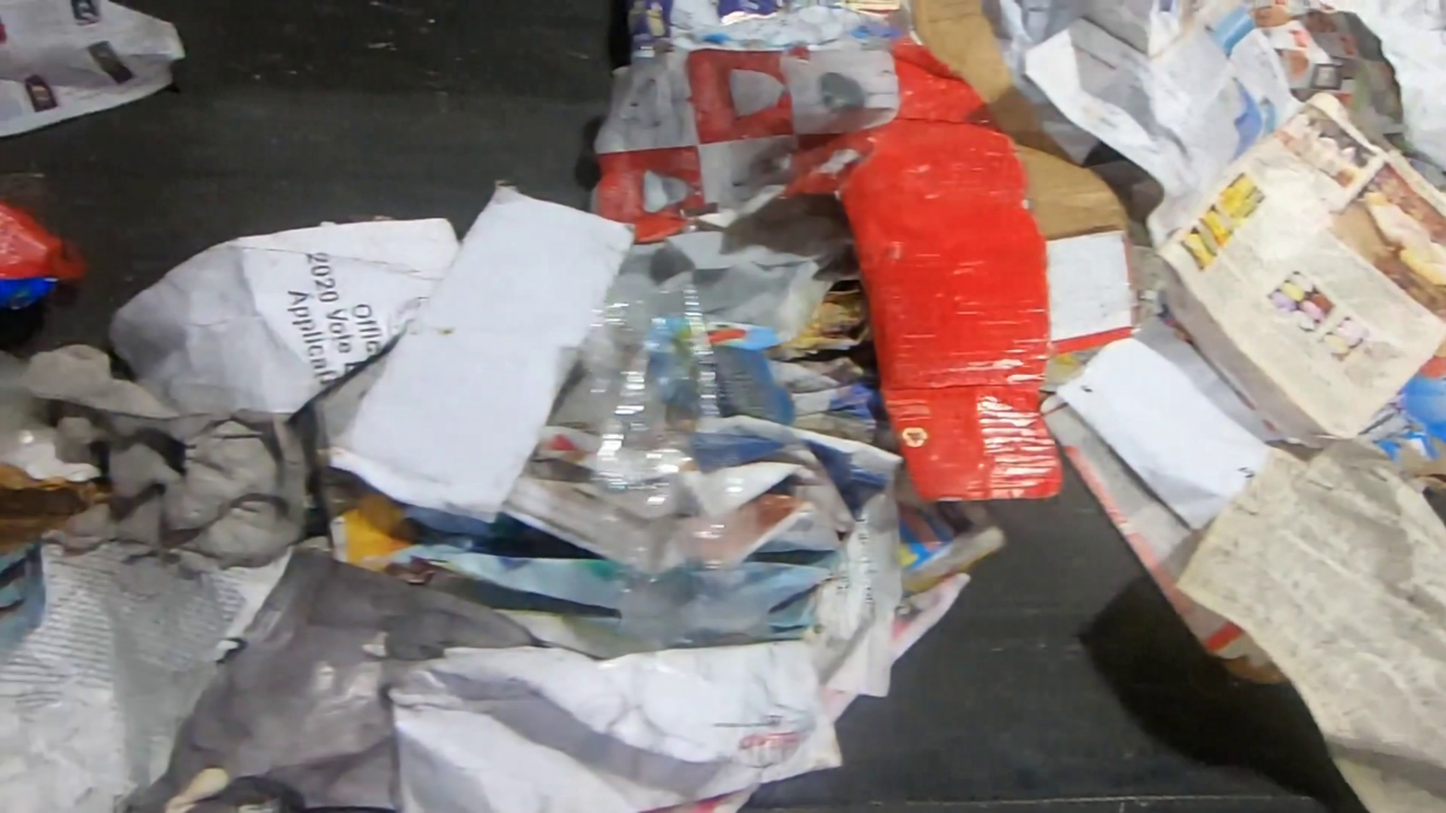cardboard: (839, 0, 1138, 506)
plastic: (153, 546, 547, 812), (577, 283, 770, 653)
